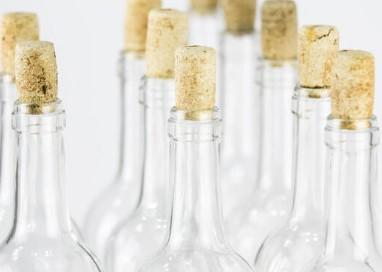glass: (0, 105, 102, 272), (152, 102, 250, 272), (253, 89, 332, 270), (103, 76, 177, 269), (314, 129, 382, 271), (1, 88, 18, 244)
